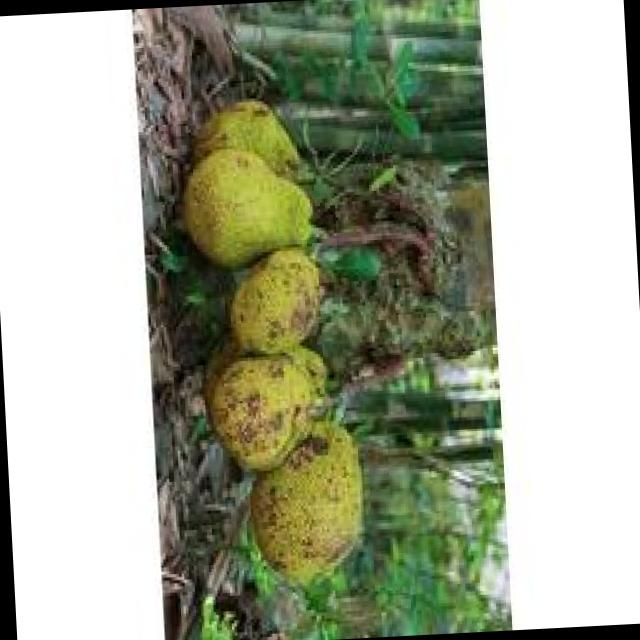Fruit: (183, 323, 390, 604), (156, 80, 330, 340)
